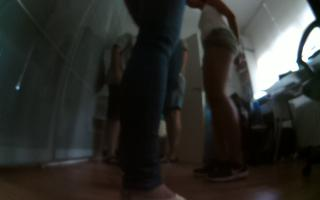person: (119, 1, 195, 200), (184, 1, 260, 186), (99, 22, 146, 165), (161, 27, 191, 169)
